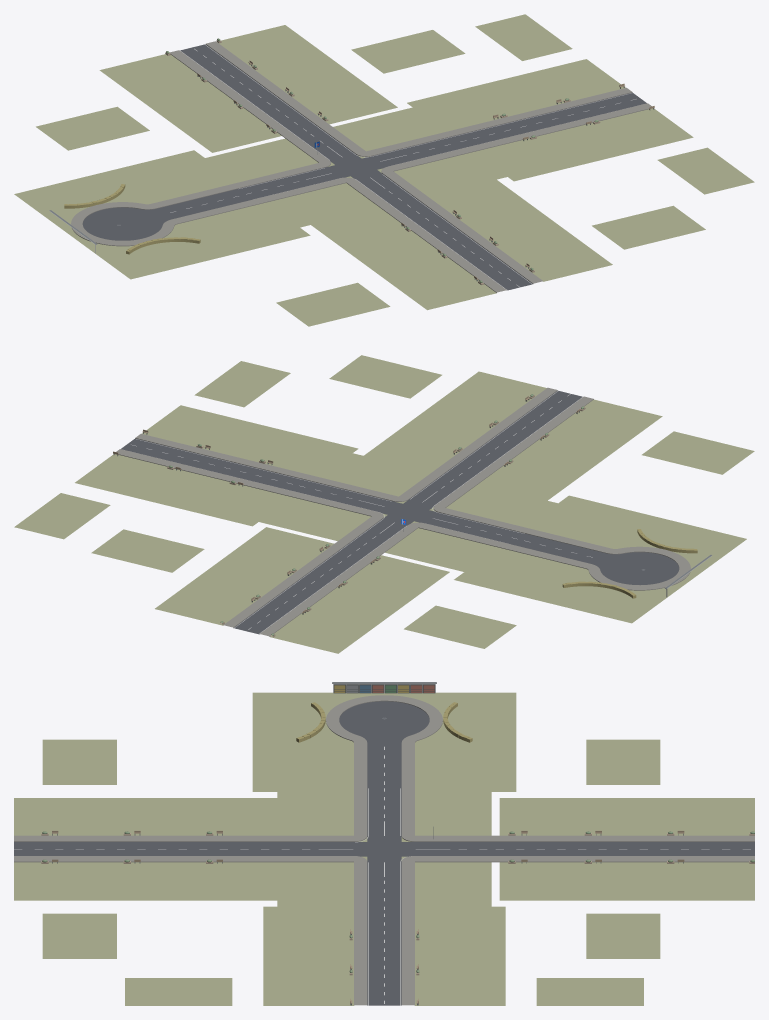
3 renders of one model, top to bottom at view 1: azimuth 30°, elevation 25°; view 2: azimuth 150°, elevation 25°; view 3: azimuth 270°, elevation 25°, orthographic. The views are drawn at different scales.
Visible parts, largest first — view 1: static; view 2: static; view 3: static.
Part boxes in pixels (left/top/right/bottom): static: left=14, top=14, right=754, bottom=326; static: left=14, top=355, right=754, bottom=653; static: left=14, top=682, right=754, bottom=1005.
Size of what is drawn, in the model's own units: 180 by 4.17 by 180.
3 materials, 2 textured.
